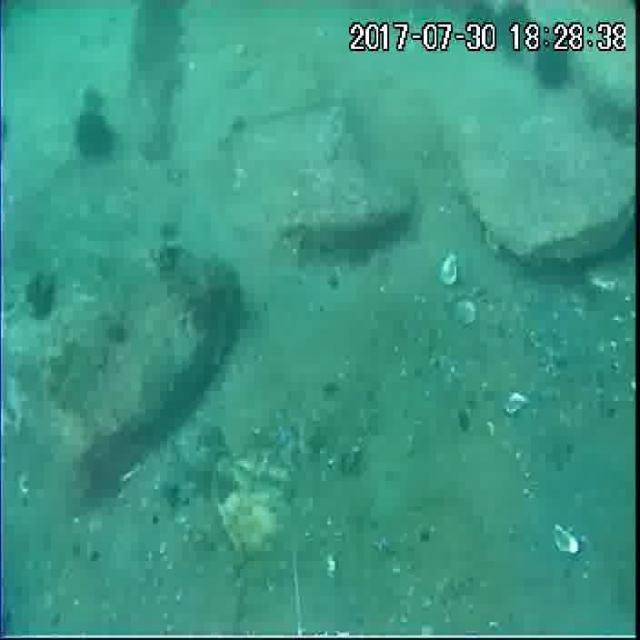echinus: (73, 104, 118, 164), (533, 37, 571, 92)
